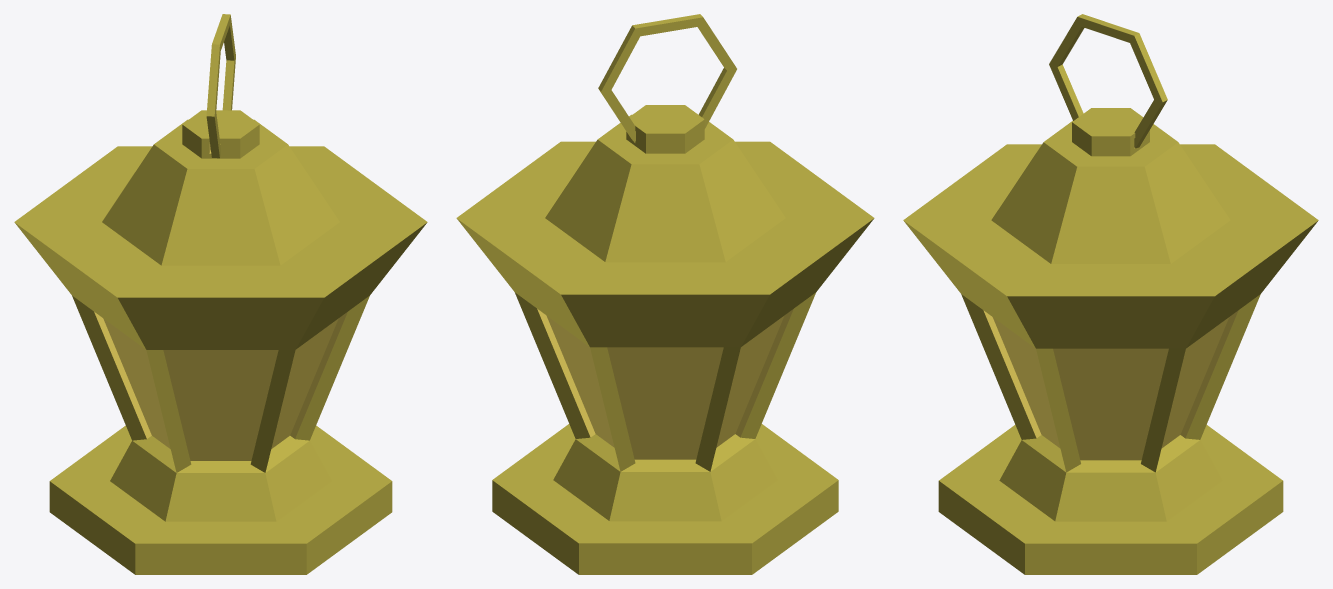
Rendered from lat.fbx.
3 views of the same model, side by side, from view 1: azimuth 30°, elevation 25°; view 2: azimuth 150°, elevation 25°; view 3: azimuth 270°, elevation 25° (orthographic).
Parts seen in each view (by area): view 1: Circle, Circle.001; view 2: Circle, Circle.001; view 3: Circle, Circle.001.
Part boxes in pixels (<box>): Circle: <box>14,110,427,574</box>; Circle.001: <box>206,14,235,158</box>; Circle: <box>456,105,874,574</box>; Circle.001: <box>598,14,736,142</box>; Circle: <box>903,108,1318,574</box>; Circle.001: <box>1049,14,1167,148</box>.
Bounding box in the file's own units: 209 × 312 × 241.
